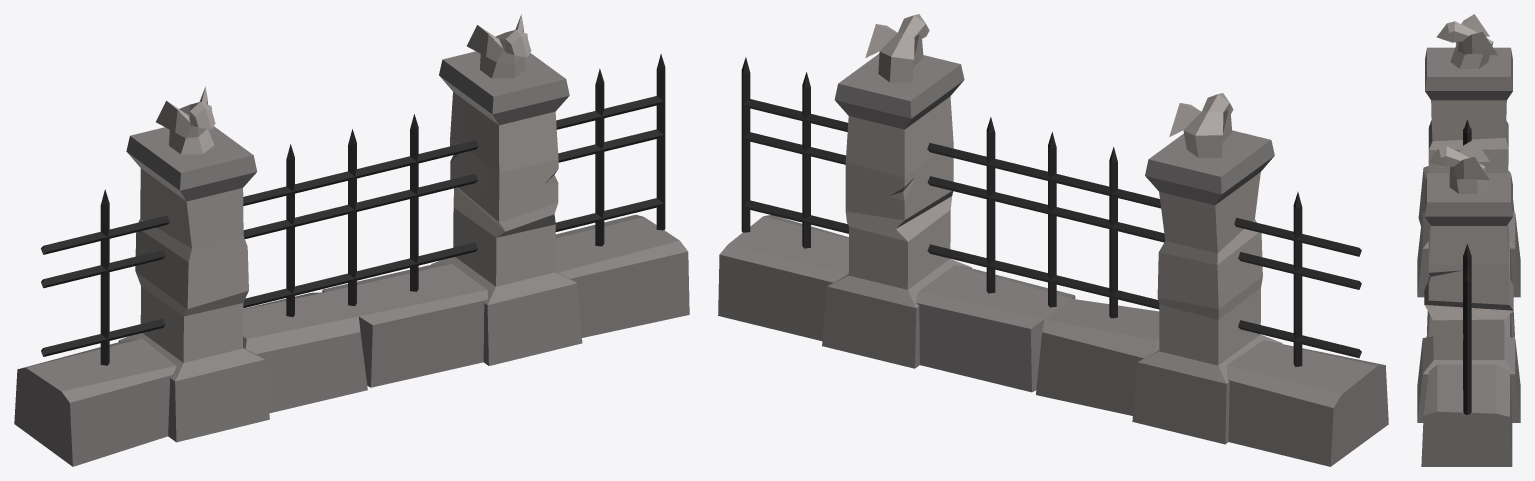
Rendered from graveyard-wall-stone.glb.
3 renders of one model, left to right at view 1: azimuth 30°, elevation 25°; view 2: azimuth 150°, elevation 25°; view 3: azimuth 270°, elevation 25°, orthographic. The views are drawn at different scales.
Parts seen in each view (by area): view 1: graveyard-wall-stone; view 2: graveyard-wall-stone; view 3: graveyard-wall-stone.
Part boxes in pixels (x1=…): graveyard-wall-stone: x1=14, y1=14, x2=689, y2=466; graveyard-wall-stone: x1=718, y1=14, x2=1388, y2=466; graveyard-wall-stone: x1=1417, y1=14, x2=1520, y2=466.
Size of the model in its own units: 4.02 by 1.93 by 0.7022.
Materials: 1 (1 with a texture image).
